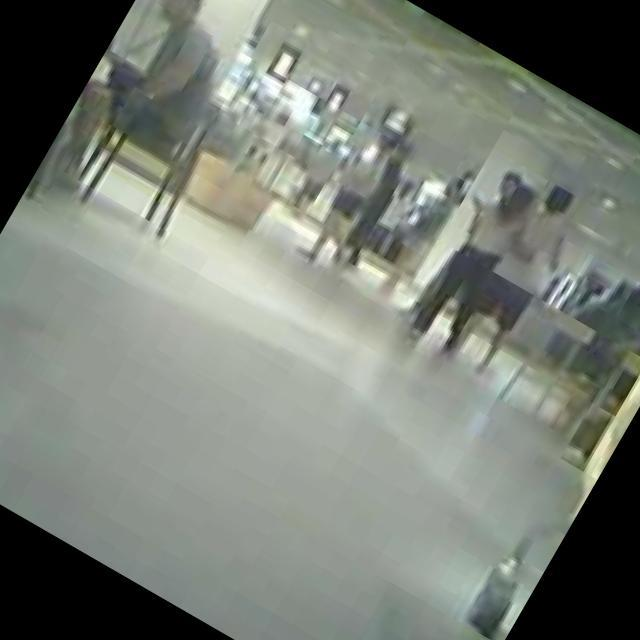person: (37, 0, 264, 229), (395, 157, 552, 362), (442, 180, 592, 382), (294, 136, 402, 277), (378, 164, 472, 302), (340, 164, 414, 270), (285, 127, 353, 220), (232, 94, 302, 182)
